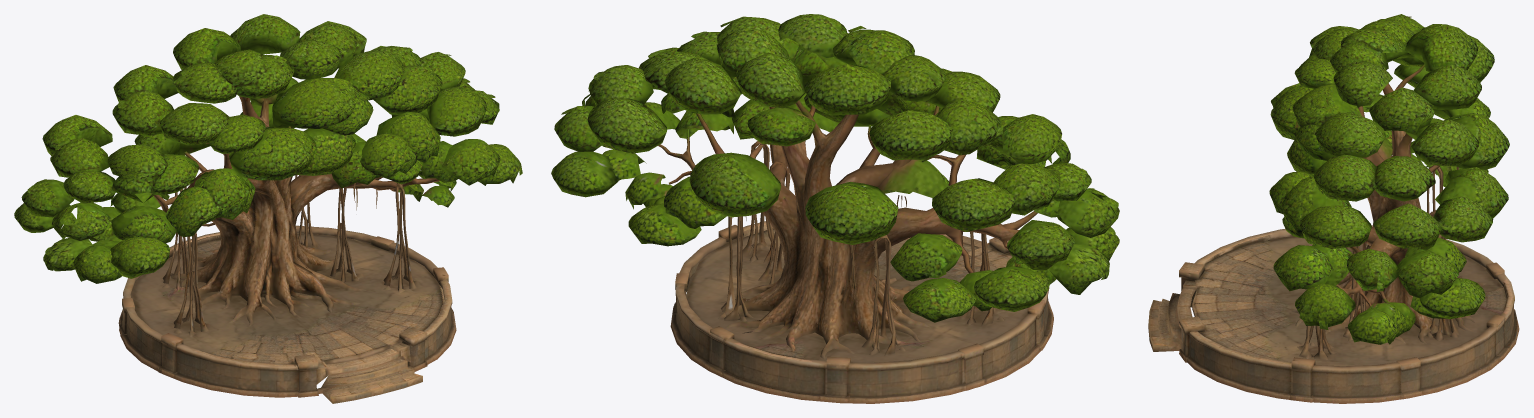
The model's file is tree+3d+model.glb.
3 renders of one model, left to right at view 1: azimuth 30°, elevation 25°; view 2: azimuth 150°, elevation 25°; view 3: azimuth 270°, elevation 25°, orthographic. The views are drawn at different scales.
Parts seen in each view (by area): view 1: tripo_node_6a5eba99-addb-4b34-b4cf-61dbc909d690; view 2: tripo_node_6a5eba99-addb-4b34-b4cf-61dbc909d690; view 3: tripo_node_6a5eba99-addb-4b34-b4cf-61dbc909d690.
Boxes of the visible parts, left/top/right/bottom form: tripo_node_6a5eba99-addb-4b34-b4cf-61dbc909d690: left=14, top=14, right=522, bottom=403; tripo_node_6a5eba99-addb-4b34-b4cf-61dbc909d690: left=551, top=14, right=1119, bottom=403; tripo_node_6a5eba99-addb-4b34-b4cf-61dbc909d690: left=1148, top=14, right=1519, bottom=403.
Bounding box in the file's own units: 0.9995 × 0.5708 × 0.6753.
1 material, 1 textured.
